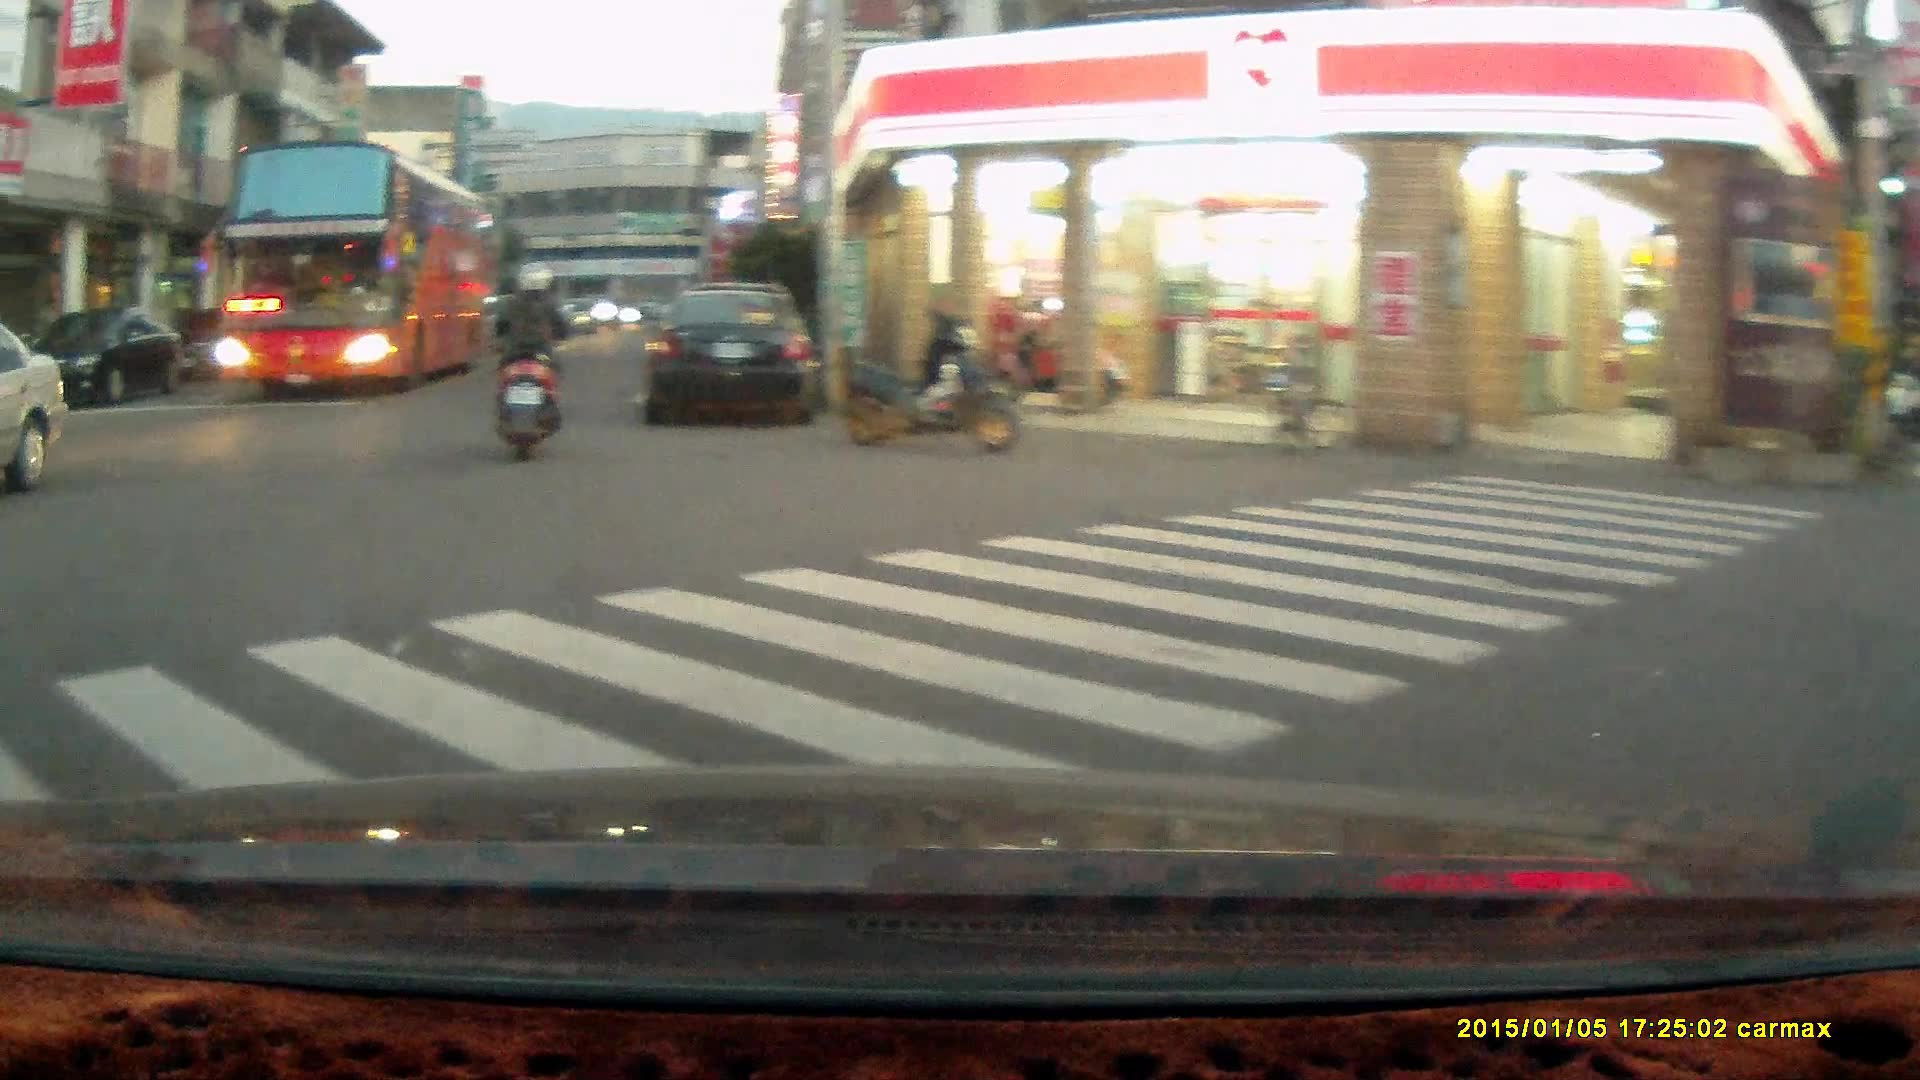rider: (481, 261, 572, 464)
vehicle: (216, 139, 504, 401), (640, 285, 825, 429), (16, 311, 184, 410)
